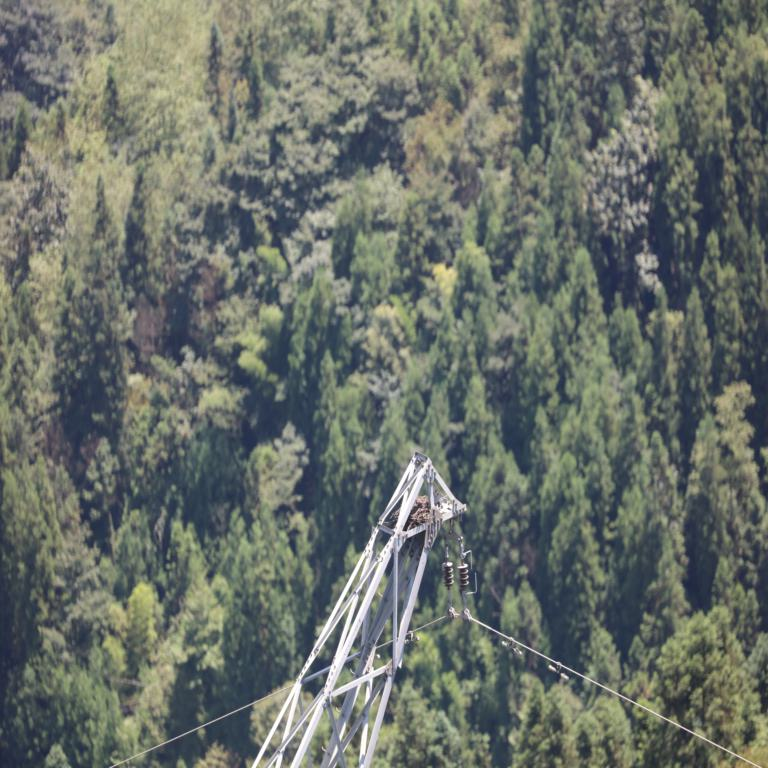nest: (392, 496, 441, 527)
